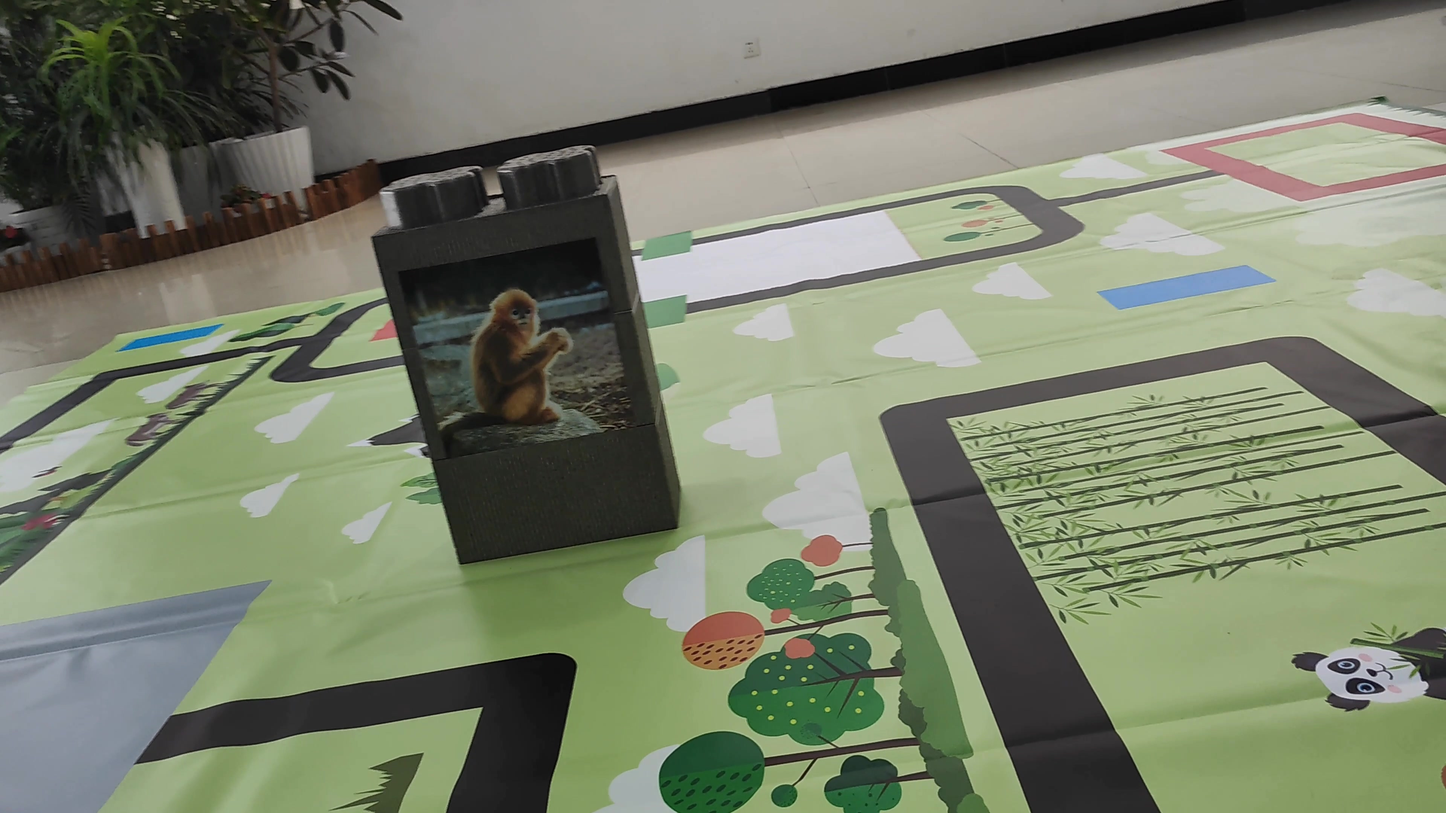monkey: (427, 282, 590, 446)
